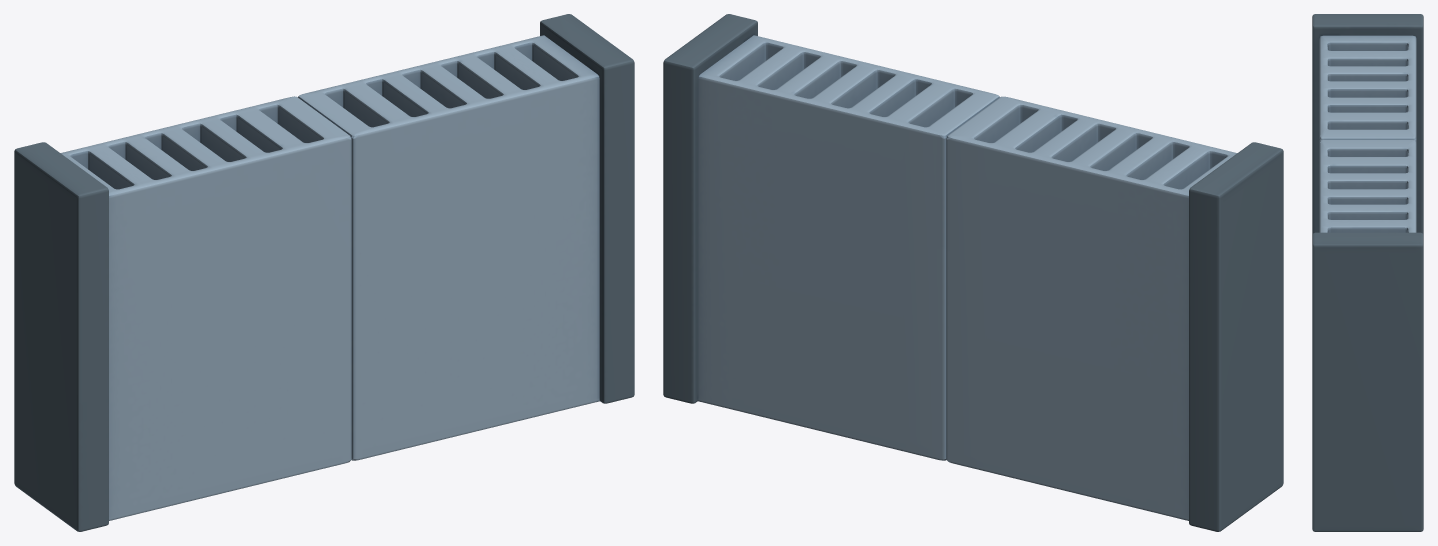
File: Door_Block_3.fbx
3 renders of one model, left to right at view 1: azimuth 30°, elevation 25°; view 2: azimuth 150°, elevation 25°; view 3: azimuth 270°, elevation 25°, orthographic. The views are drawn at different scales.
Visible parts, largest first — view 1: Door_Block_3; view 2: Door_Block_3; view 3: Door_Block_3.
Boxes of the visible parts, left/top/right/bottom form: Door_Block_3: left=14, top=14, right=634, bottom=531; Door_Block_3: left=663, top=14, right=1283, bottom=531; Door_Block_3: left=1312, top=14, right=1423, bottom=531.
Bounding box in the file's own units: 3 × 1.74 × 0.6098.
Materials: 1 (1 with a texture image).
